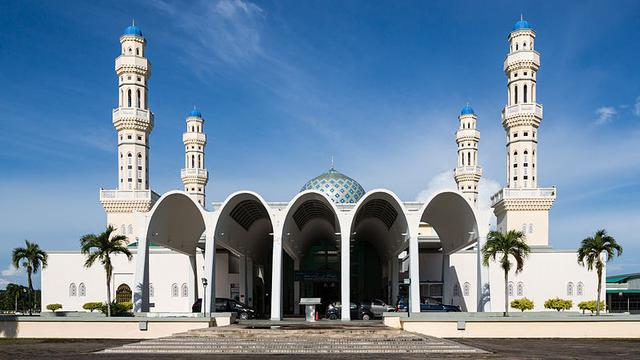Mosque: (83, 20, 558, 314)
